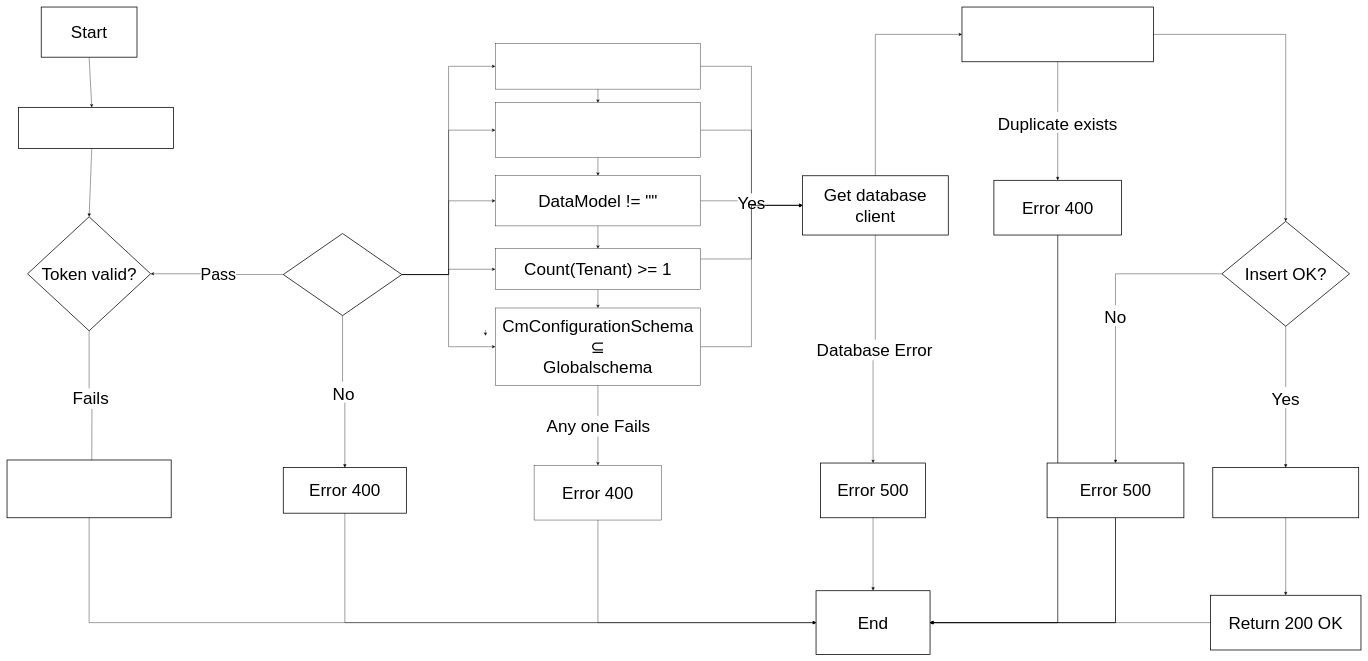
Some shapes in this 1368 by 661 pixel diagram are drawn without their labels. Here are the shapes that lost their labels. From the top down, the centre of each, then its label:
At (1057,34): "Check for duplicate".
At (598,66): "Name !=nil".
At (96,128): "Extract user info".
At (598,130): "AdminState != nil (ENABLED/DISABLED)".
At (342,274): "Input valid?".
At (88,488): "Error 401/403/500".
At (1285,492): "Clear alarms and log success".
